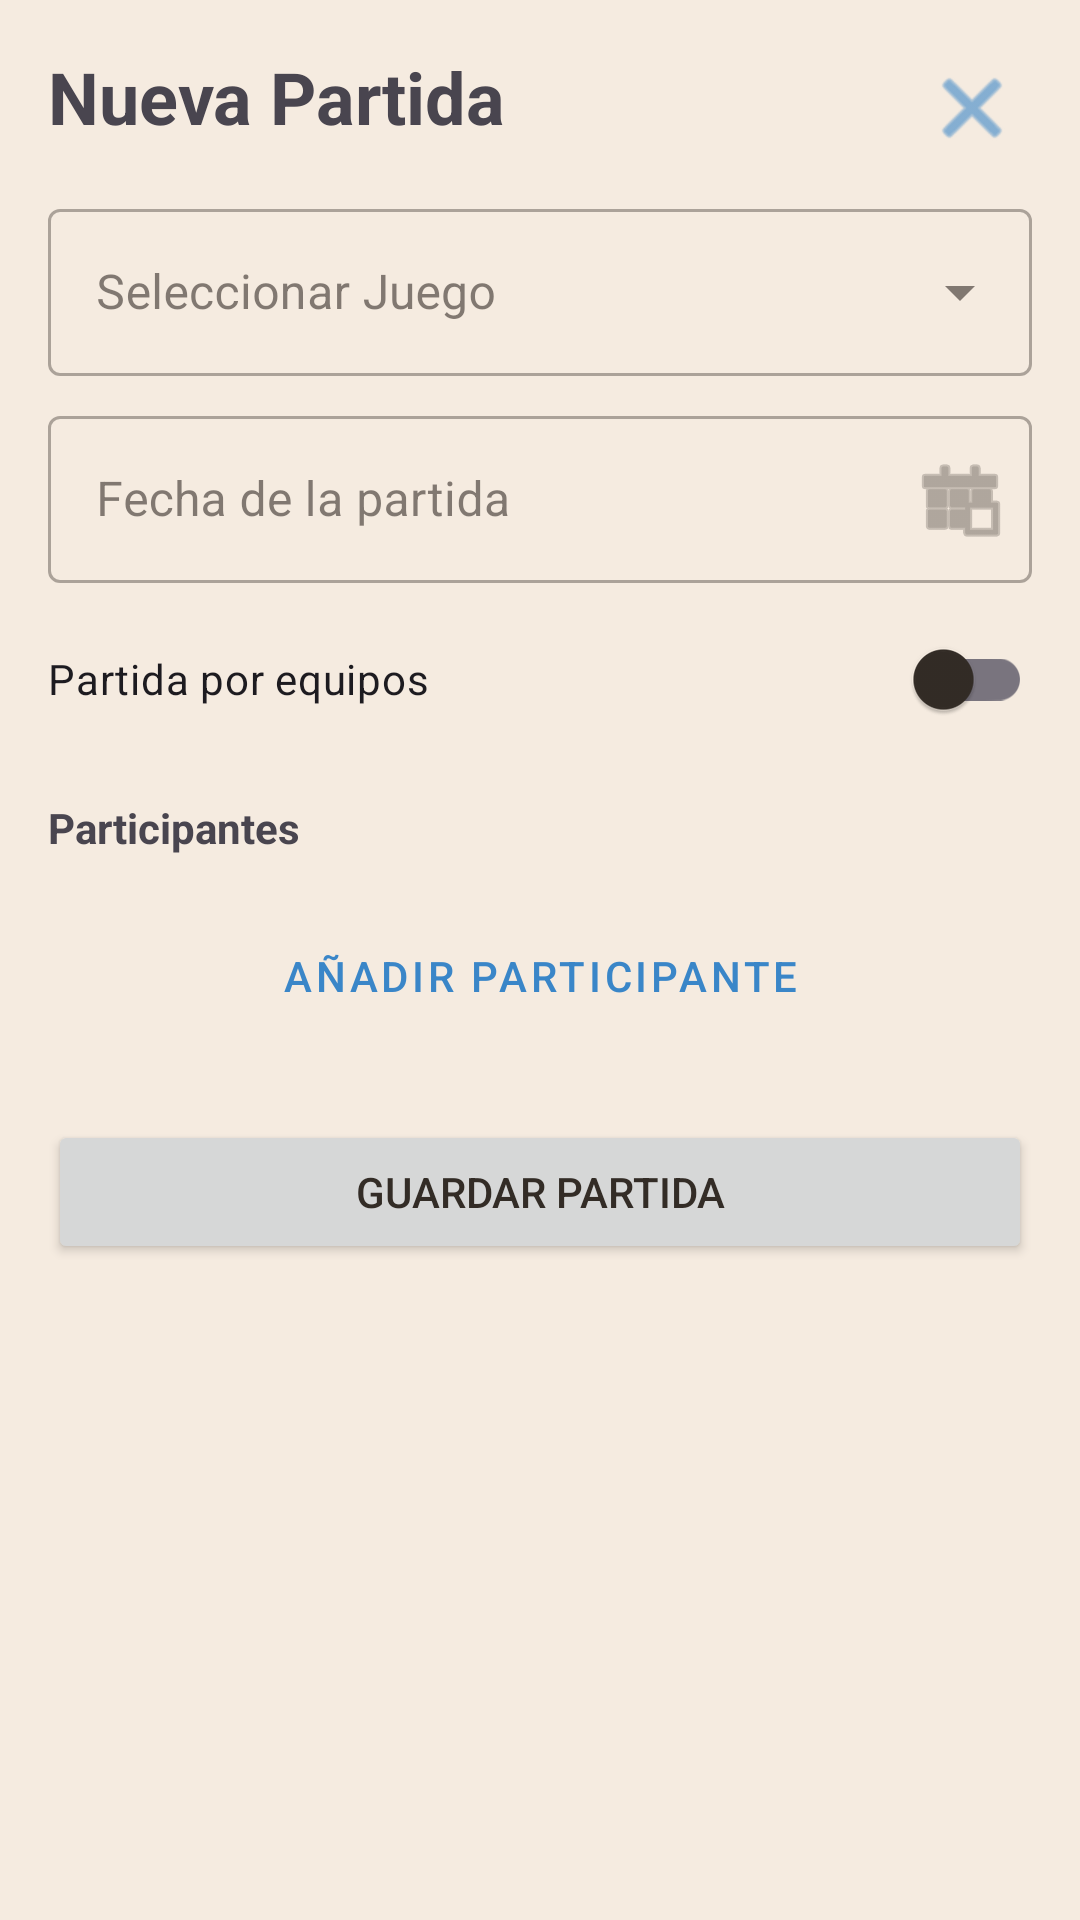

Point at icon controls on the screen. Image size 1080w x 1920h, points as [x,y].
Cerrar: [972,108]
